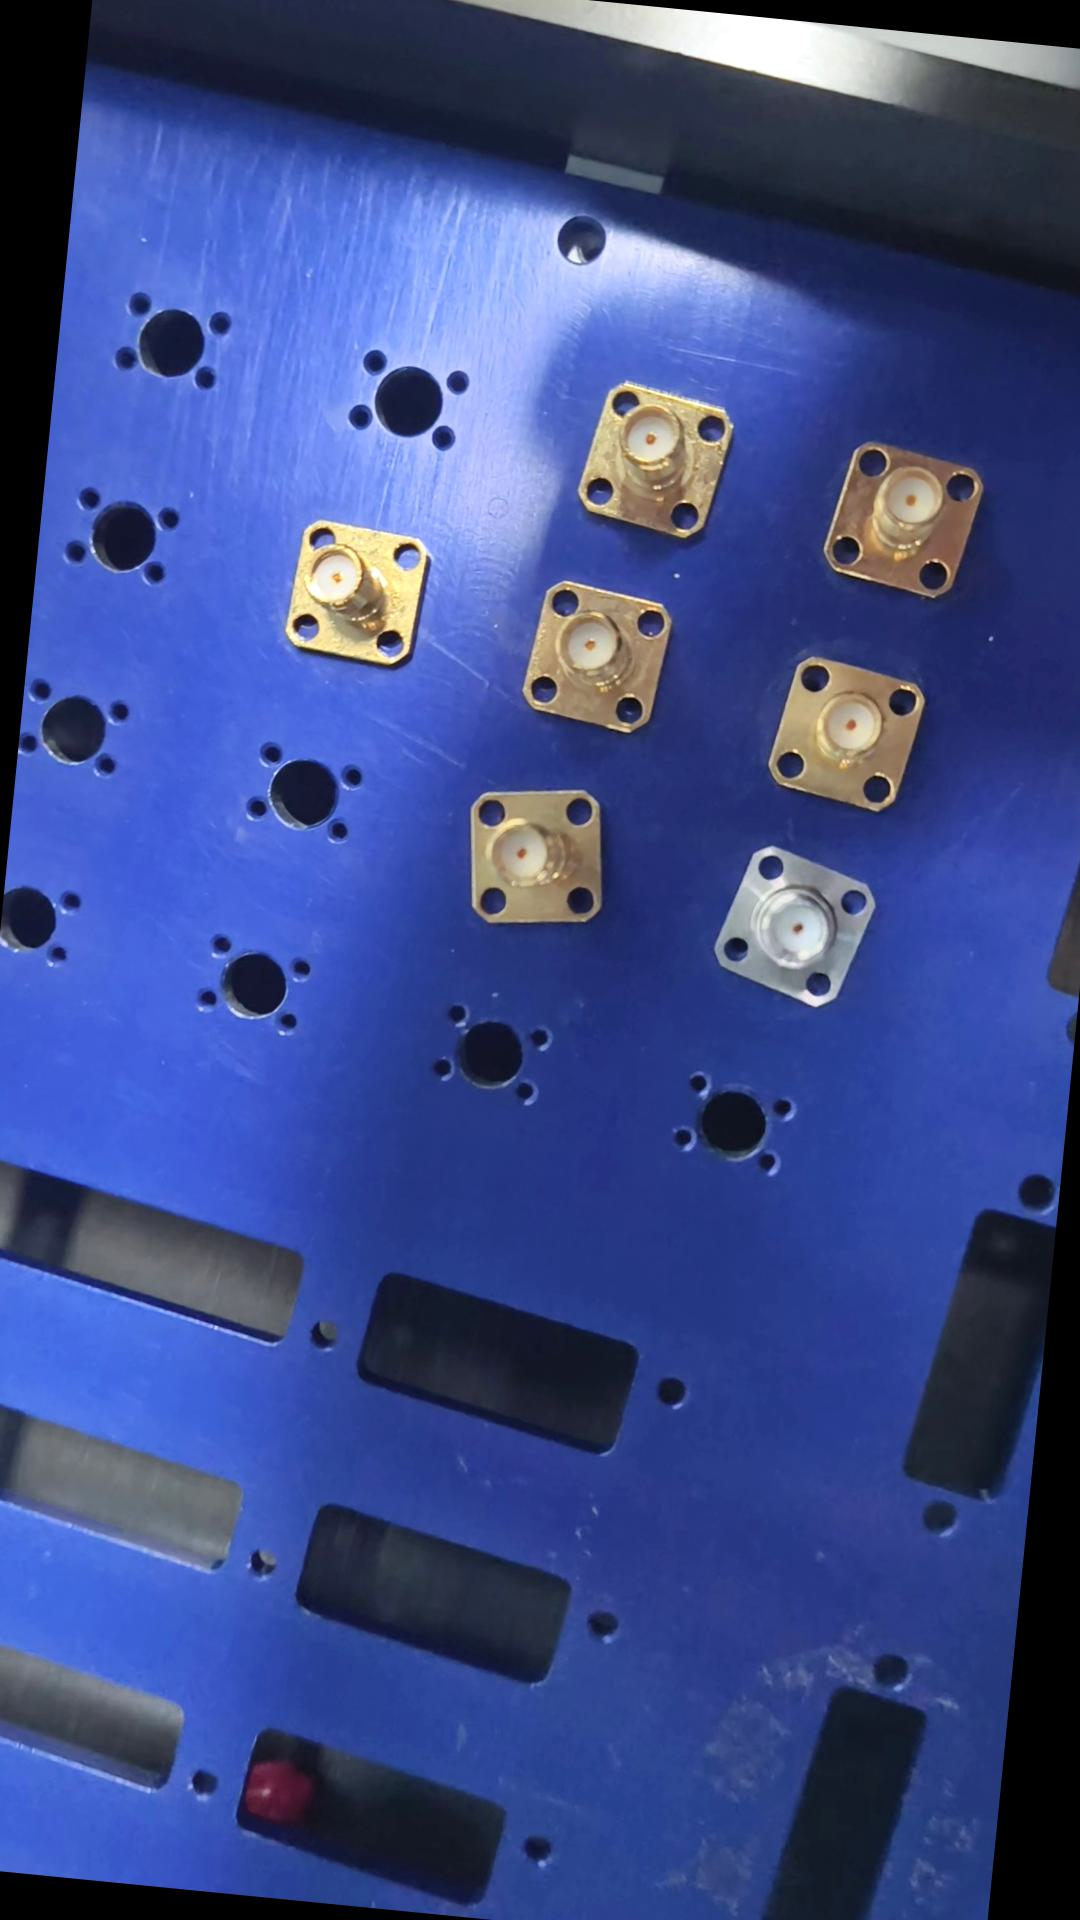SMA: (752, 647, 942, 818), (698, 833, 880, 1010), (440, 774, 615, 943), (808, 444, 986, 600), (512, 572, 676, 738), (563, 380, 729, 543), (276, 509, 431, 680)
